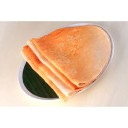dosa: (19, 24, 117, 104)
